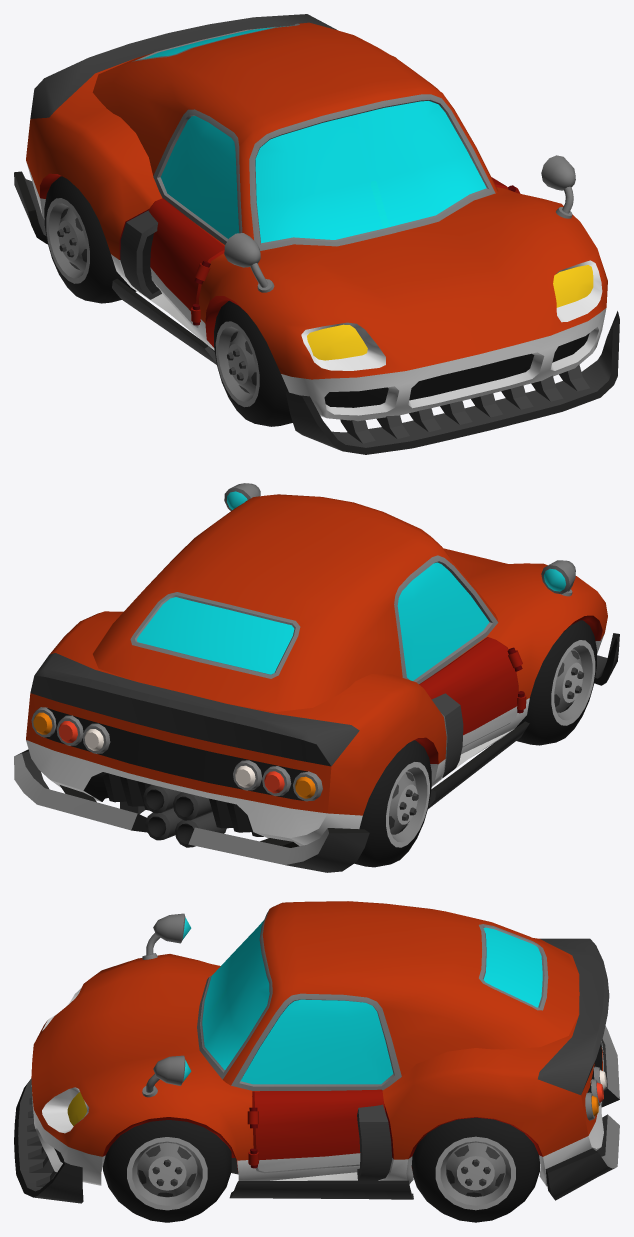
Rendered from VEH15-A.fbx.
3 views of the same model, one above another, from view 1: azimuth 30°, elevation 25°; view 2: azimuth 150°, elevation 25°; view 3: azimuth 270°, elevation 25° (orthographic). The views are drawn at different scales.
Visible parts, largest first — view 1: VEH15_A, V15A_Wheel_BR, V15A_Wheel_FR; view 2: VEH15_A, V15A_Wheel_BR, V15A_Wheel_FR; view 3: VEH15_A, V15A_Wheel_BL, V15A_Wheel_FL.
Boxes of the visible parts, <box> form: VEH15_A: <box>14,14,619,454</box>; V15A_Wheel_BR: <box>44,176,136,303</box>; V15A_Wheel_FR: <box>214,300,292,426</box>; VEH15_A: <box>14,483,619,872</box>; V15A_Wheel_BR: <box>354,740,431,867</box>; V15A_Wheel_FR: <box>515,620,596,745</box>; VEH15_A: <box>14,901,619,1203</box>; V15A_Wheel_BL: <box>411,1117,539,1222</box>; V15A_Wheel_FL: <box>103,1120,231,1222</box>.
Size of the model in its own units: 255 by 173 by 420.
Materials: 1 (1 with a texture image).
